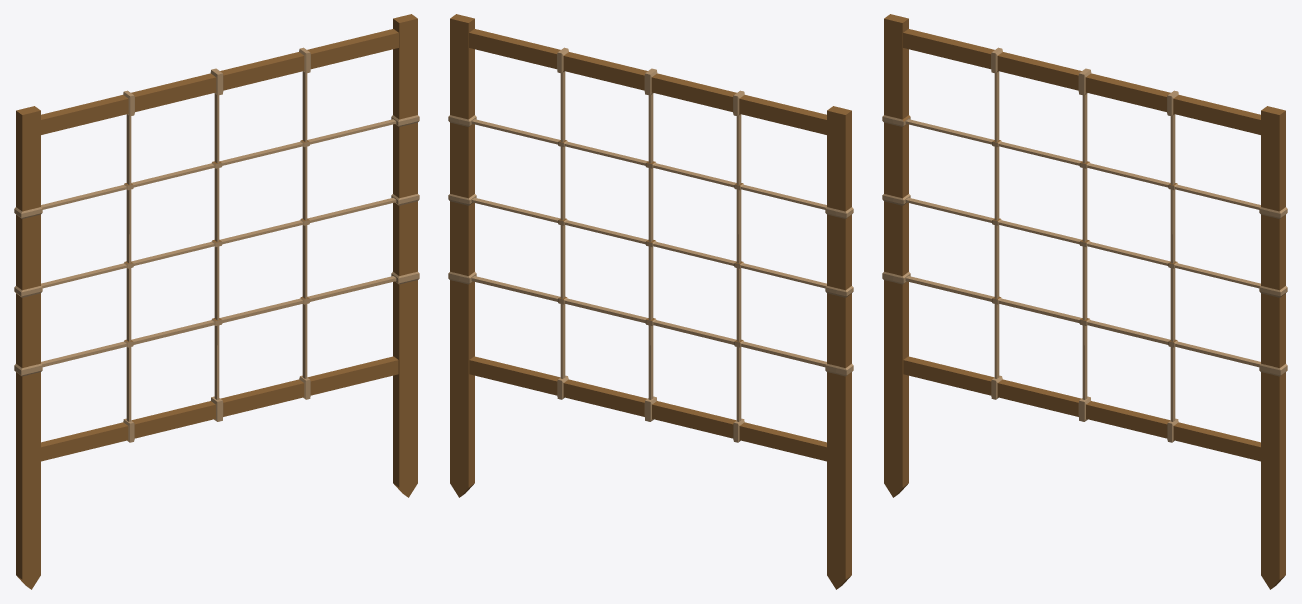
The model's file is mod_Pea_Trellis.fbx.
3 renders of one model, left to right at view 1: azimuth 30°, elevation 25°; view 2: azimuth 150°, elevation 25°; view 3: azimuth 330°, elevation 25°, orthographic.
Parts seen in each view (by area): view 1: PeaTrellis; view 2: PeaTrellis; view 3: PeaTrellis.
Boxes of the visible parts, left/top/right/bottom form: PeaTrellis: left=14, top=14, right=419, bottom=589; PeaTrellis: left=448, top=14, right=853, bottom=589; PeaTrellis: left=882, top=14, right=1287, bottom=589.
Bounding box in the file's own units: 478 × 547 × 14.99.
